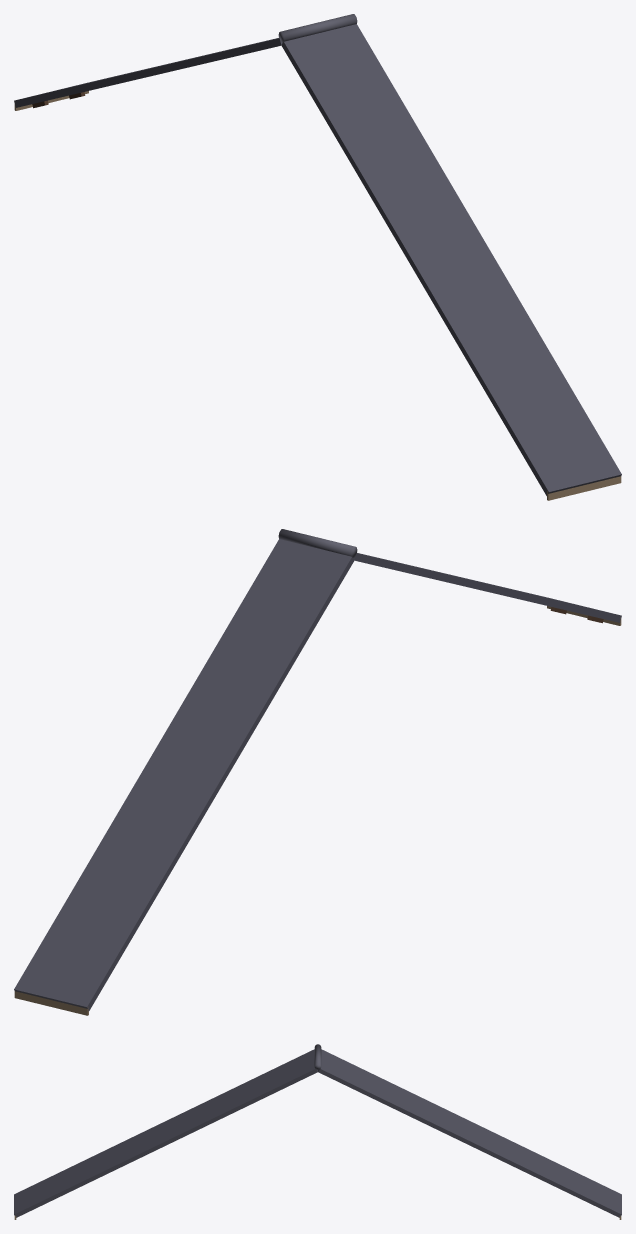
File: kit_clapboard_slate_w12.glb
The picture shows the model from 3 angles, top to bottom: view 1: azimuth 30°, elevation 25°; view 2: azimuth 150°, elevation 25°; view 3: azimuth 270°, elevation 25°; orthographic projection. The views are drawn at different scales.
Parts seen in each view (by area): view 1: kit_clapboard_slate_w12; view 2: kit_clapboard_slate_w12; view 3: kit_clapboard_slate_w12.
Boxes of the visible parts, bbox=[...] form: kit_clapboard_slate_w12: bbox=[14, 14, 621, 500]; kit_clapboard_slate_w12: bbox=[14, 529, 621, 1015]; kit_clapboard_slate_w12: bbox=[14, 1044, 621, 1219].
Size of the model in its own units: 1 by 3.59 by 12.68.
